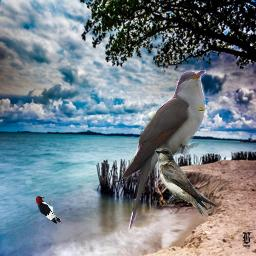Cuckoo: (121, 70, 206, 233)
Swallow: (155, 148, 218, 217)
Woodpecker: (36, 196, 62, 224)
